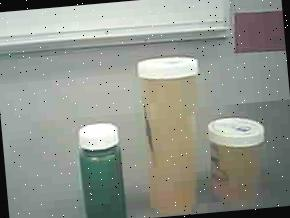Bottle A: (131, 51, 212, 218)
Bottle B: (204, 109, 274, 210)
Bottle C: (73, 119, 132, 218)
